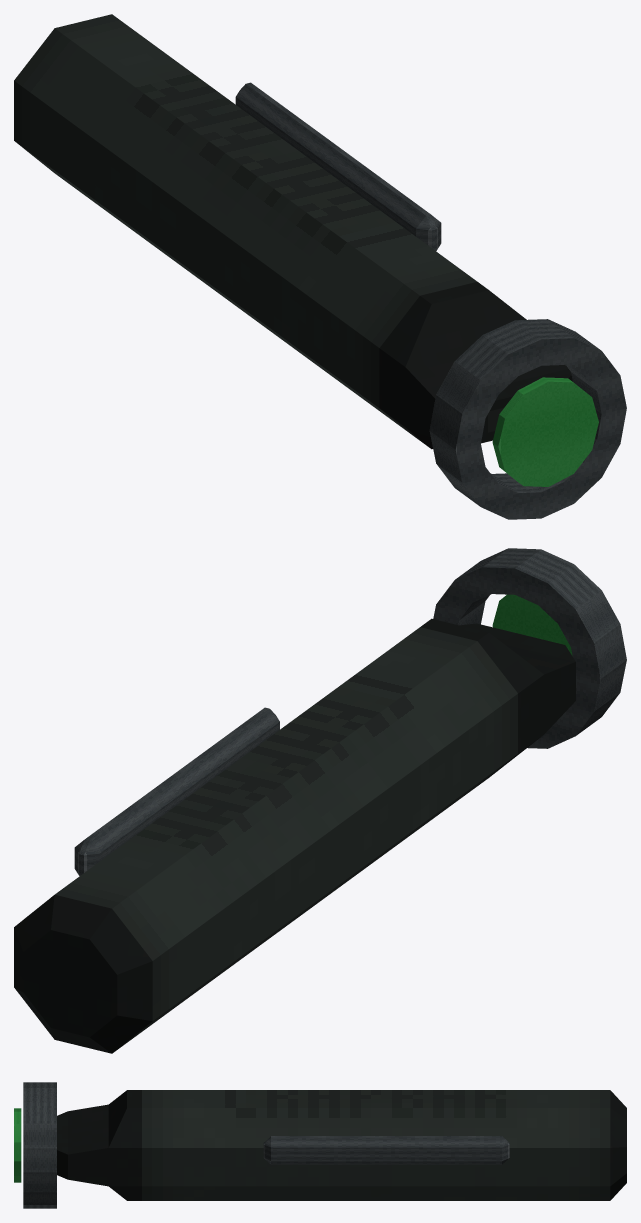
Rendered from blender_dots_projector_1_deployed.glb.
3 views of the same model, one above another, from view 1: azimuth 30°, elevation 25°; view 2: azimuth 150°, elevation 25°; view 3: azimuth 270°, elevation 25° (orthographic). The views are drawn at different scales.
Parts seen in each view (by area): view 1: blender_dots_projector_1_deployed; view 2: blender_dots_projector_1_deployed; view 3: blender_dots_projector_1_deployed.
Part boxes in pixels (box(x1,y1,x2,y2)): blender_dots_projector_1_deployed: box(14, 14, 626, 519); blender_dots_projector_1_deployed: box(14, 548, 626, 1053); blender_dots_projector_1_deployed: box(14, 1082, 626, 1208).
Bounding box in the file's own units: 0.0355 × 0.034 × 0.1645.
Materials: 3 (3 with a texture image).
